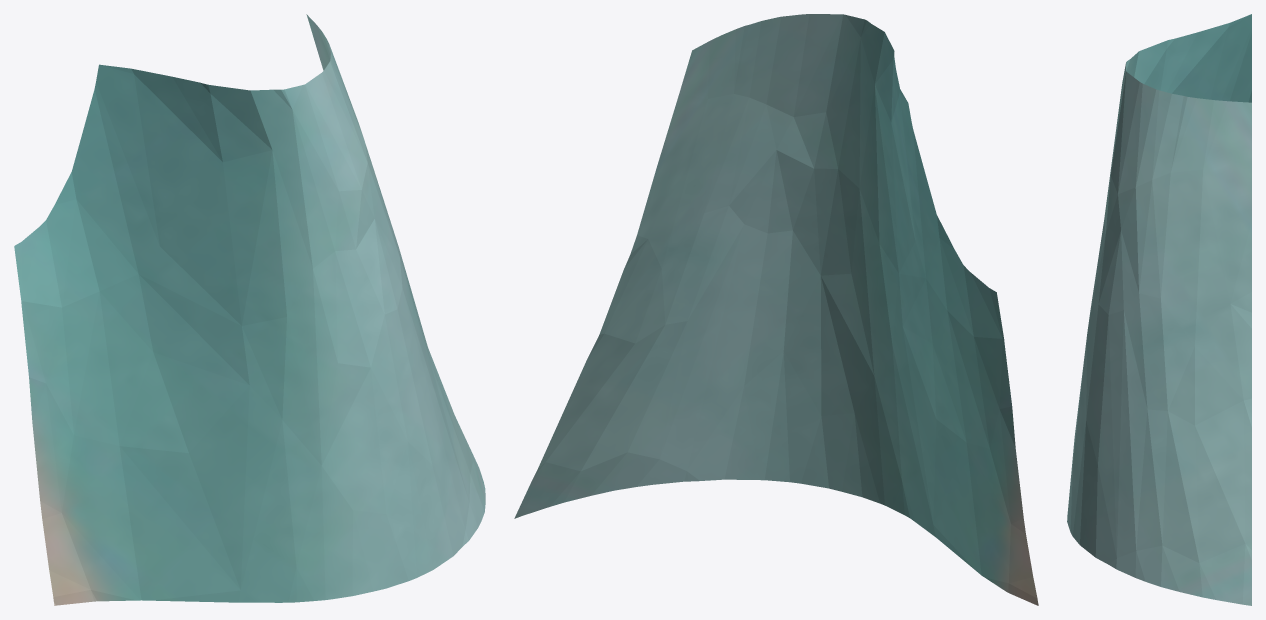
3 renders of one model, left to right at view 1: azimuth 30°, elevation 25°; view 2: azimuth 150°, elevation 25°; view 3: azimuth 270°, elevation 25°, orthographic. The views are drawn at different scales.
Parts seen in each view (by area): view 1: 091_W_Aya_100K_01; view 2: 091_W_Aya_100K_01; view 3: 091_W_Aya_100K_01.
Part boxes in pixels (x1,y1,x2,y2): 091_W_Aya_100K_01: (14,14,485,605); 091_W_Aya_100K_01: (514,14,1038,605); 091_W_Aya_100K_01: (1067,14,1251,605).
Size of the model in its own units: 42.29 by 42.87 by 16.68.
Materials: 1 (1 with a texture image).
